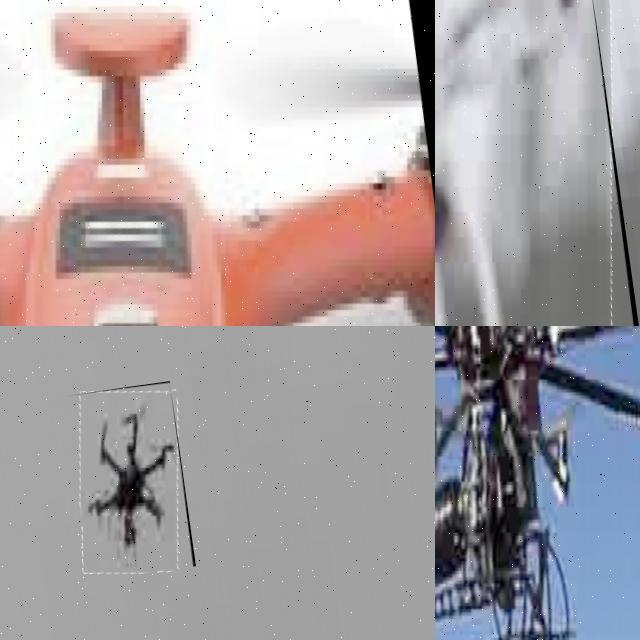0: (435, 0, 640, 326), (435, 326, 640, 640), (64, 381, 196, 581)
drone: (0, 0, 435, 326)
